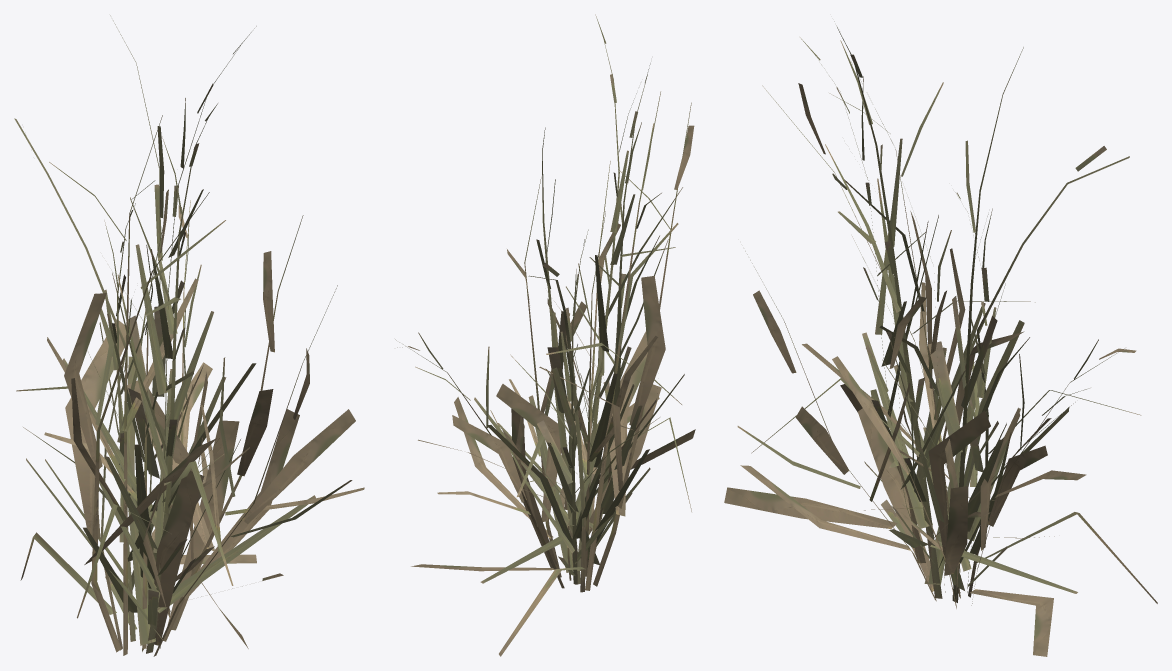
Rendered from static.glb.
The picture shows the model from 3 angles, left to right: view 1: azimuth 30°, elevation 25°; view 2: azimuth 150°, elevation 25°; view 3: azimuth 270°, elevation 25°; orthographic projection. The views are drawn at different scales.
Parts seen in each view (by area): view 1: _4b63_Var2_LOD3; view 2: _4b63_Var2_LOD3; view 3: _4b63_Var2_LOD3.
Part boxes in pixels (bbox=[...]): _4b63_Var2_LOD3: bbox=[14, 15, 364, 656]; _4b63_Var2_LOD3: bbox=[395, 14, 695, 656]; _4b63_Var2_LOD3: bbox=[724, 21, 1157, 656].
Size of the model in its own units: 0.3968 by 0.9245 by 0.5892.
Materials: 1 (1 with a texture image).
